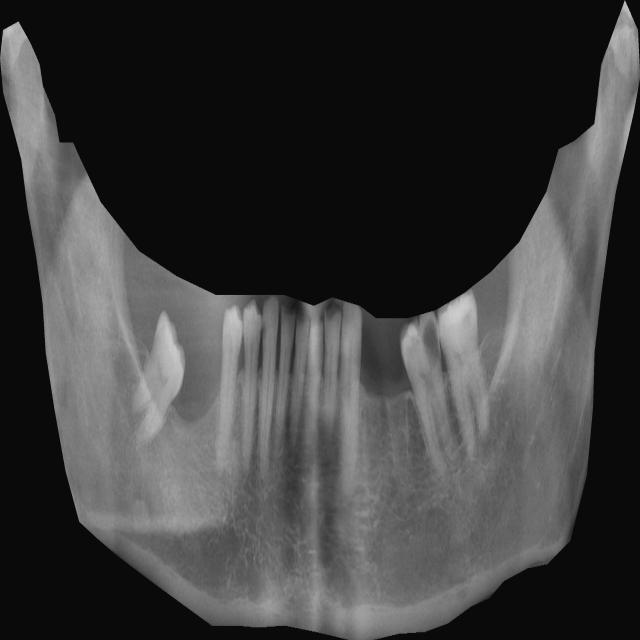mandibula: (0, 0, 640, 640)
